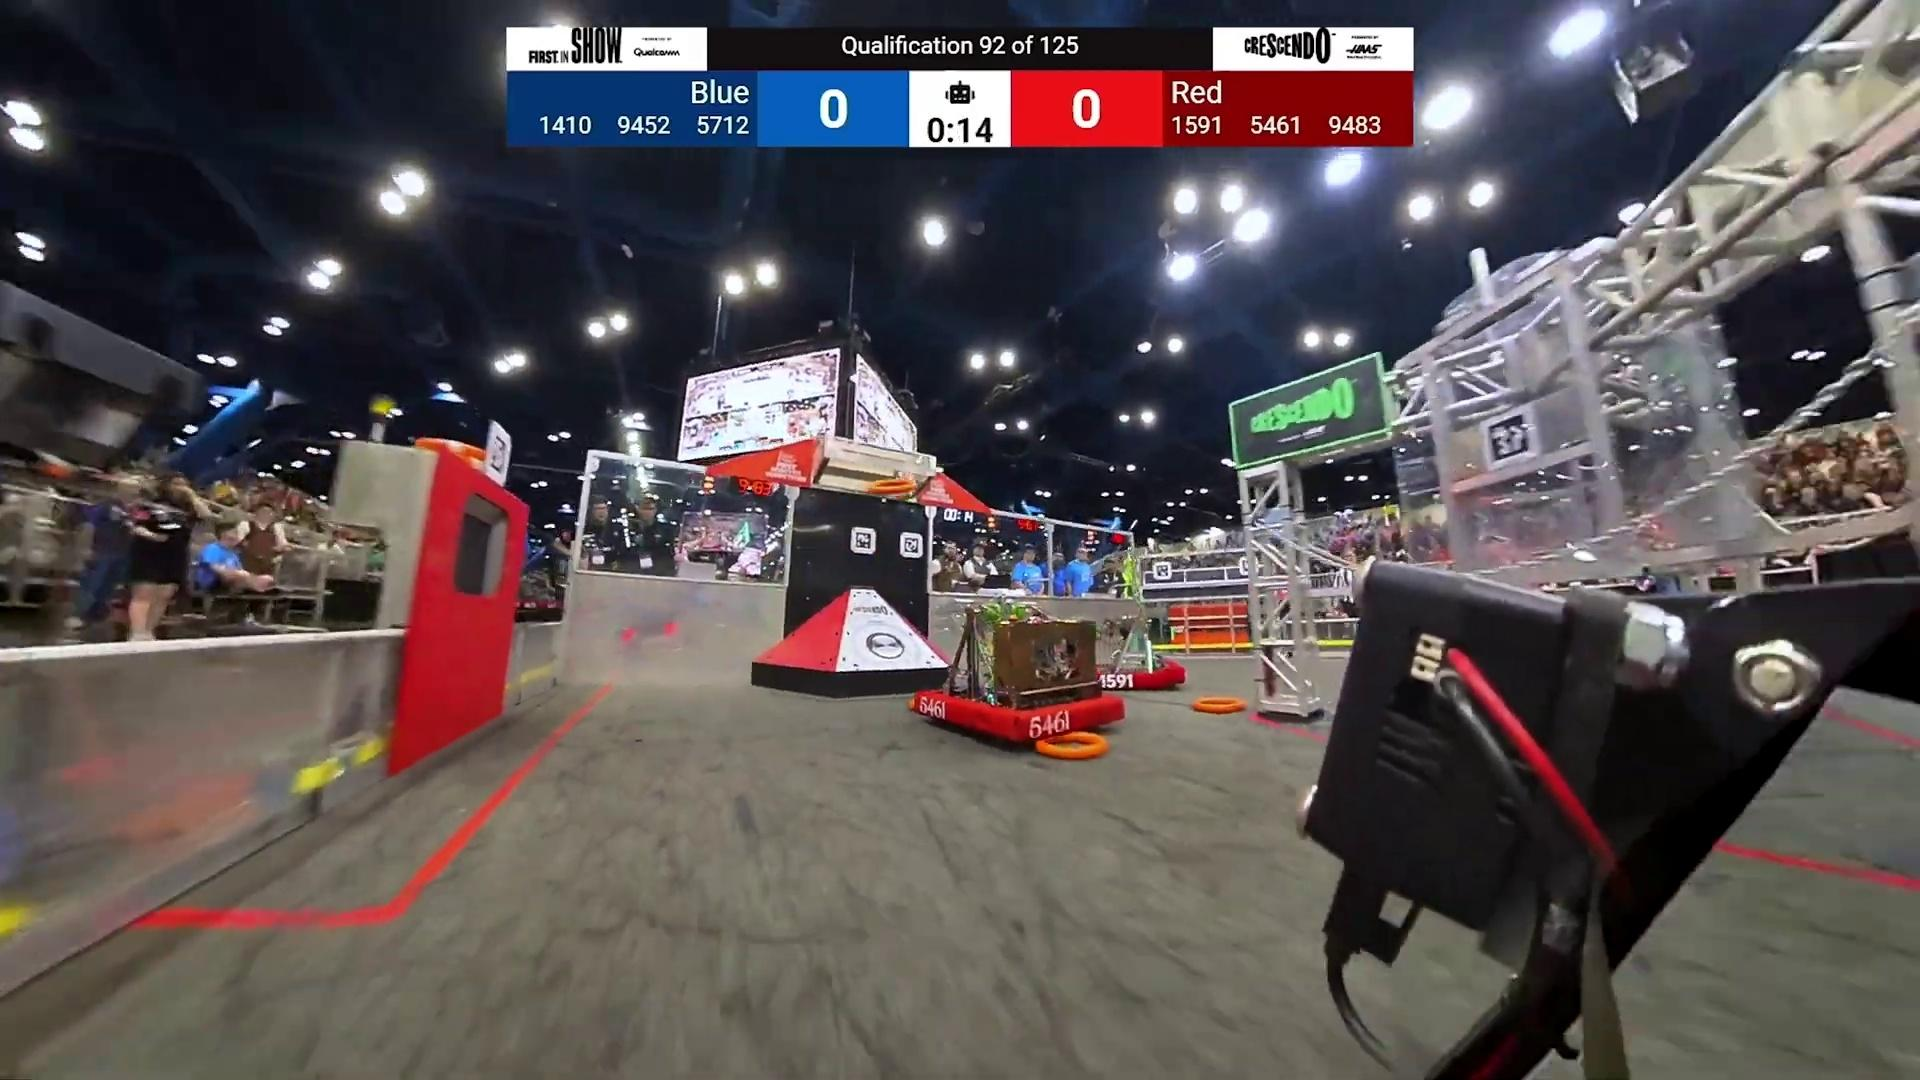robot: (915, 599, 1125, 748), (1087, 554, 1187, 692)
